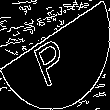P_NW: (33, 24, 77, 86)
